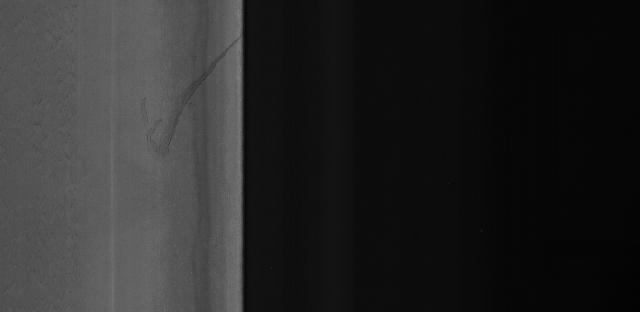water_spot: (140, 32, 241, 164)
